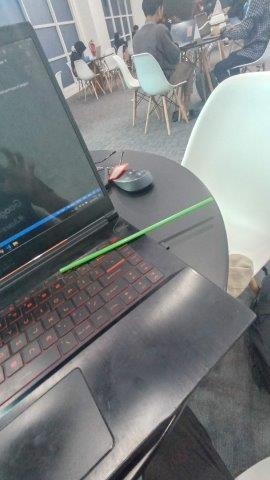sedotan: (60, 198, 212, 273)
